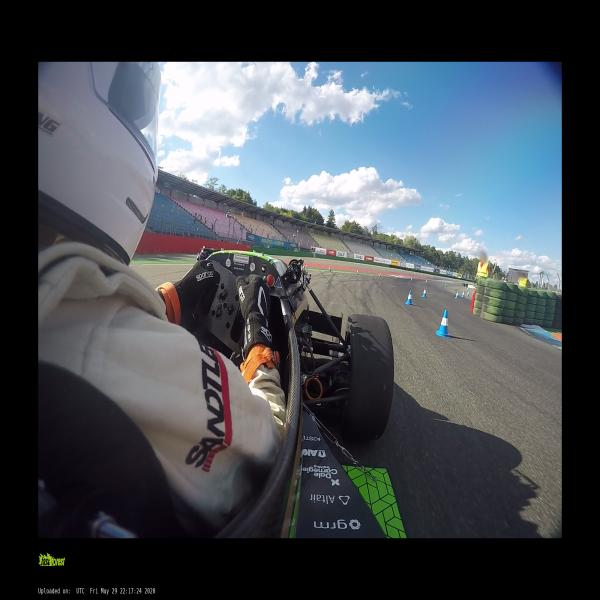blue_cone: (436, 309, 451, 337), (406, 290, 413, 306), (422, 288, 427, 297), (455, 291, 458, 299), (461, 291, 464, 298), (467, 290, 469, 296), (329, 266, 331, 271), (395, 274, 397, 279), (379, 272, 381, 276), (445, 282, 447, 286), (467, 287, 469, 291), (357, 269, 358, 274), (411, 277, 412, 281), (426, 279, 427, 283)
